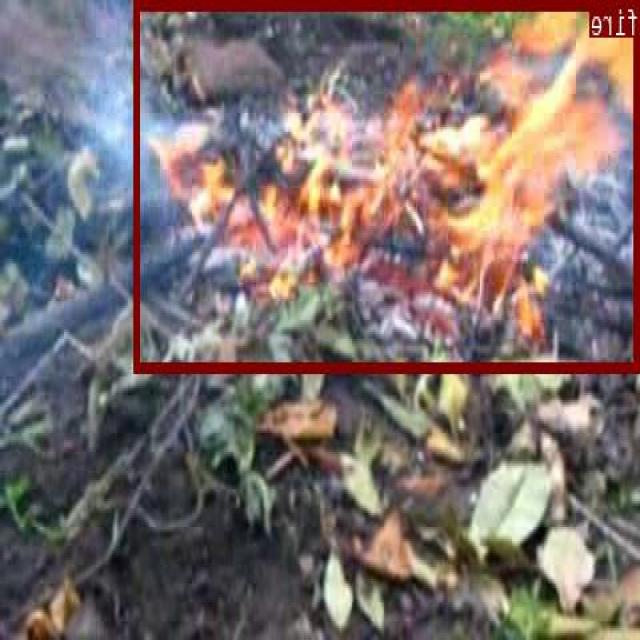fire: (135, 0, 640, 369)
